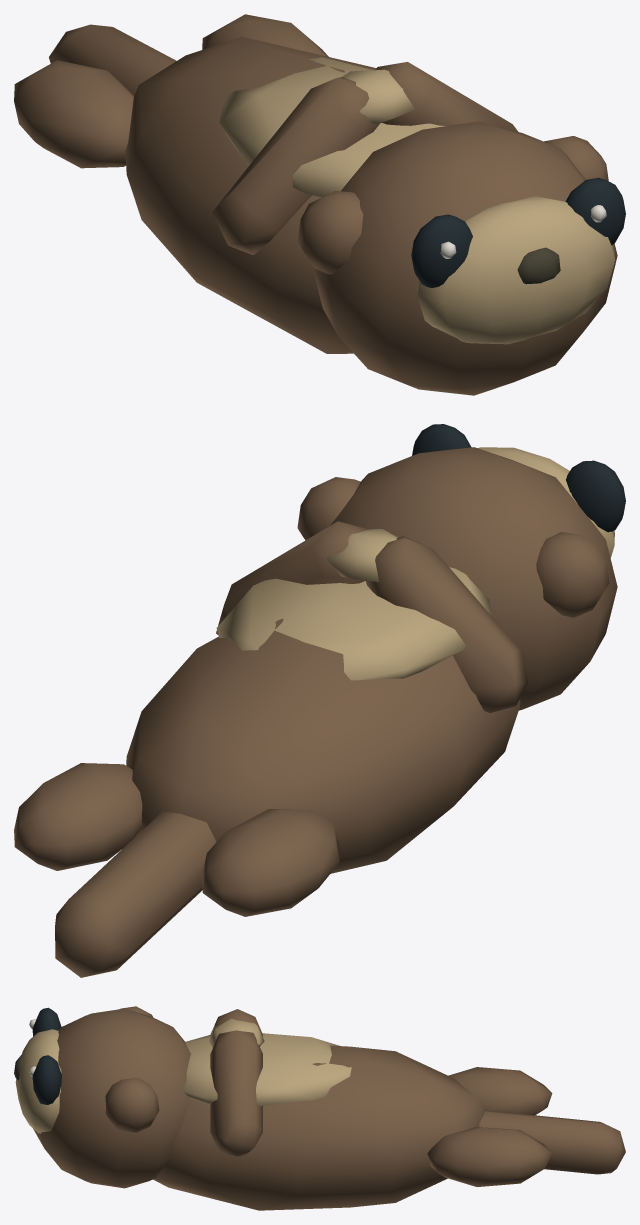
File: org_seaotter.glb
3 views of the same model, one above another, from view 1: azimuth 30°, elevation 25°; view 2: azimuth 150°, elevation 25°; view 3: azimuth 270°, elevation 25° (orthographic). The views are drawn at different scales.
Parts seen in each view (by area): view 1: Head, Body, Arm_R, Leg_BR, Tail, Arm_L, Eye_R, Eye_L, Leg_BL; view 2: Body, Head, Tail, Leg_BR, Arm_R, Leg_BL, Arm_L, Eye_R, Eye_L; view 3: Body, Head, Arm_L, Leg_BL, Tail, Leg_BR, Eye_L, Eye_R, Arm_R.
Part boxes in pixels (x1=…): Head: x1=297, y1=121, x2=617, y2=395; Body: x1=125, y1=36, x2=445, y2=353; Arm_R: x1=212, y1=77, x2=379, y2=254; Leg_BR: x1=14, y1=60, x2=134, y2=168; Tail: x1=49, y1=24, x2=176, y2=95; Arm_L: x1=376, y1=62, x2=518, y2=131; Eye_R: x1=411, y1=214, x2=472, y2=287; Eye_L: x1=565, y1=177, x2=625, y2=245; Leg_BL: x1=202, y1=14, x2=328, y2=56; Body: x1=126, y1=529, x2=520, y2=873; Head: x1=297, y1=447, x2=617, y2=710; Tail: x1=55, y1=811, x2=216, y2=977; Leg_BR: x1=202, y1=809, x2=339, y2=916; Arm_R: x1=365, y1=536, x2=528, y2=712; Leg_BL: x1=14, y1=763, x2=142, y2=870; Arm_L: x1=216, y1=521, x2=368, y2=635; Eye_R: x1=566, y1=460, x2=625, y2=532; Eye_L: x1=412, y1=424, x2=471, y2=455; Body: x1=153, y1=1018, x2=484, y2=1210; Head: x1=14, y1=1006, x2=191, y2=1188; Arm_L: x1=210, y1=1030, x2=262, y2=1156; Leg_BL: x1=427, y1=1127, x2=552, y2=1186; Tail: x1=479, y1=1110, x2=625, y2=1174; Leg_BR: x1=448, y1=1067, x2=552, y2=1115; Eye_L: x1=29, y1=1055, x2=61, y2=1104; Eye_R: x1=29, y1=1007, x2=61, y2=1036; Arm_R: x1=210, y1=1009, x2=262, y2=1036.
Bounding box in the file's own units: 0.2222 × 0.1959 × 0.6.
